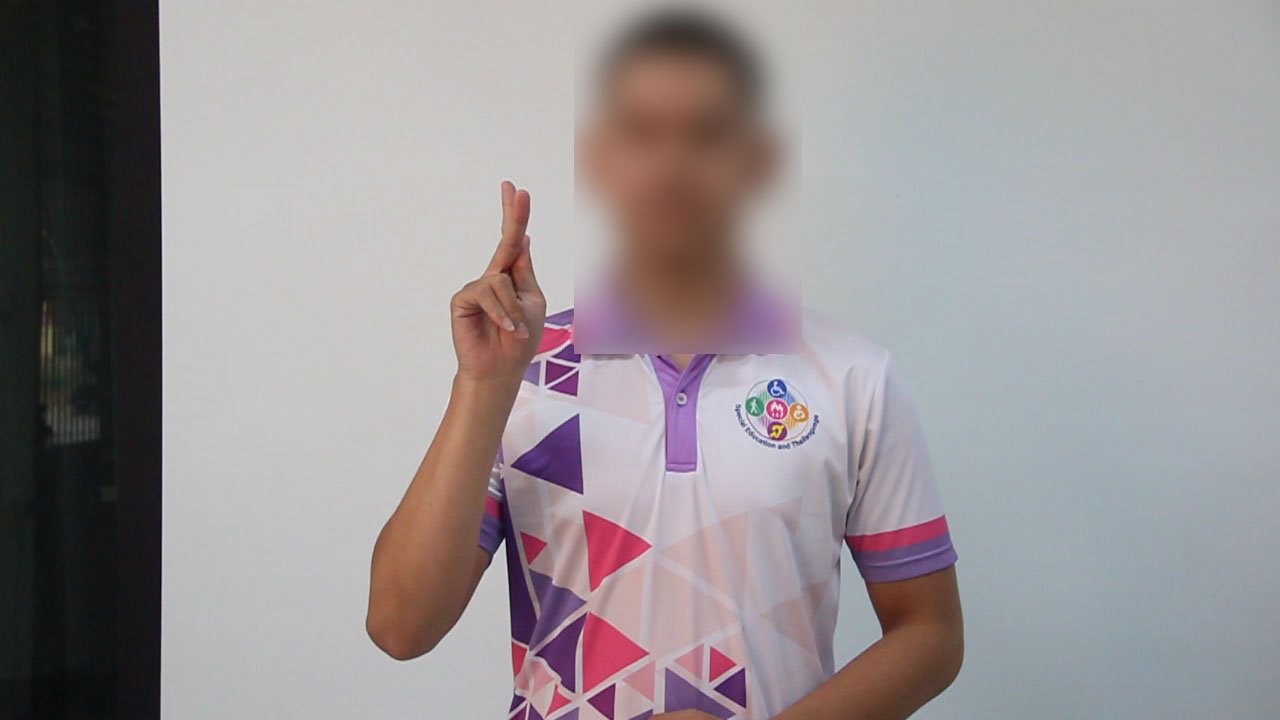ko: (434, 169, 559, 377)
